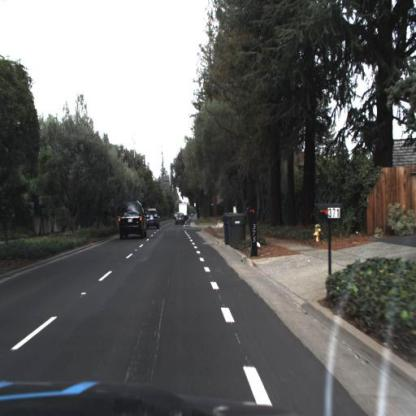car: (116, 200, 147, 244), (144, 208, 162, 233), (179, 202, 190, 218), (175, 213, 185, 227)
truck: (176, 200, 189, 226)
